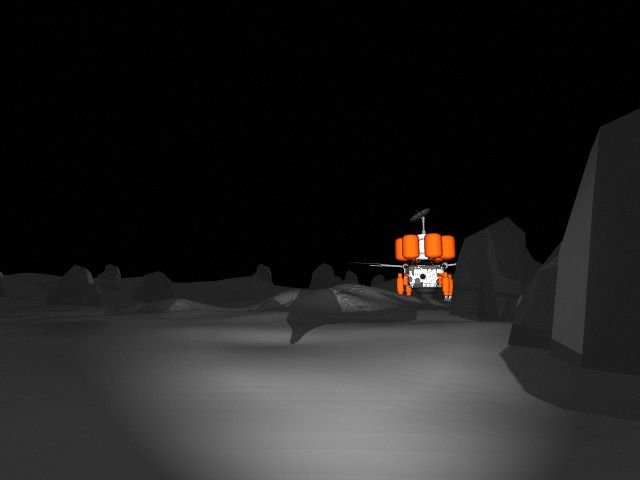homebase: (355, 205, 492, 304)
